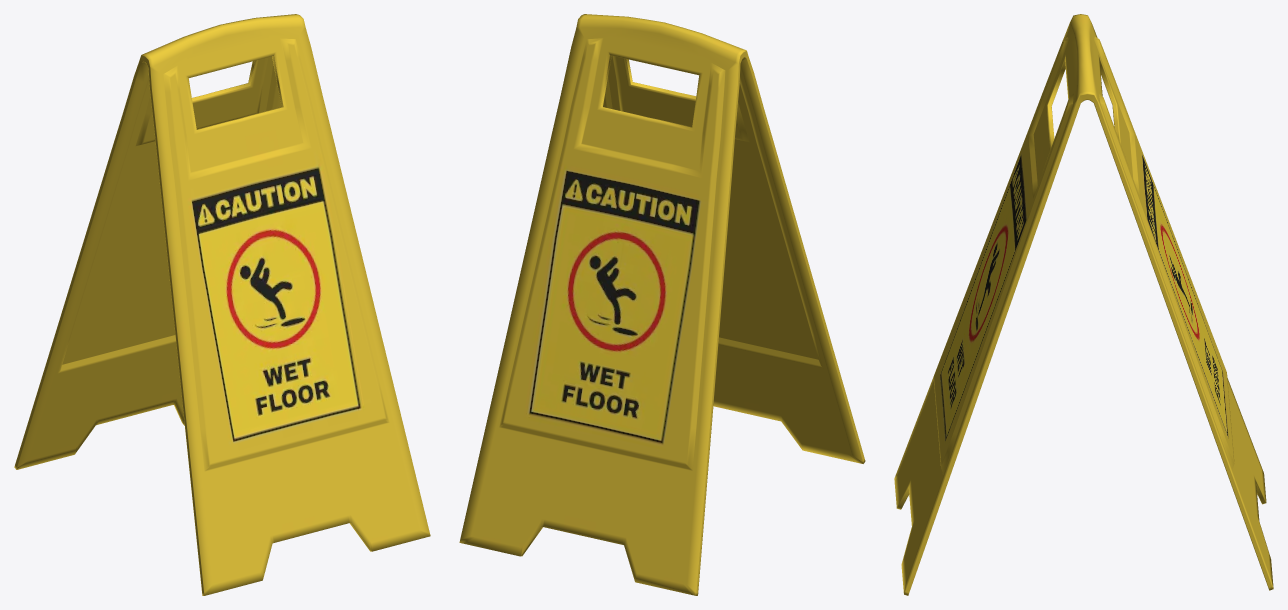
File: caution_wet_floor.glb
3 views of the same model, side by side, from view 1: azimuth 30°, elevation 25°; view 2: azimuth 150°, elevation 25°; view 3: azimuth 270°, elevation 25° (orthographic). The views are drawn at different scales.
Visible parts, largest first — view 1: Floor_Sign; view 2: Floor_Sign; view 3: Floor_Sign.
Boxes of the visible parts, left/top/right/bottom form: Floor_Sign: left=14, top=14, right=430, bottom=595; Floor_Sign: left=459, top=14, right=865, bottom=595; Floor_Sign: left=894, top=14, right=1273, bottom=595.
Size of the model in its own units: 0.3158 by 0.5968 by 0.4168.
Materials: 1 (1 with a texture image).
